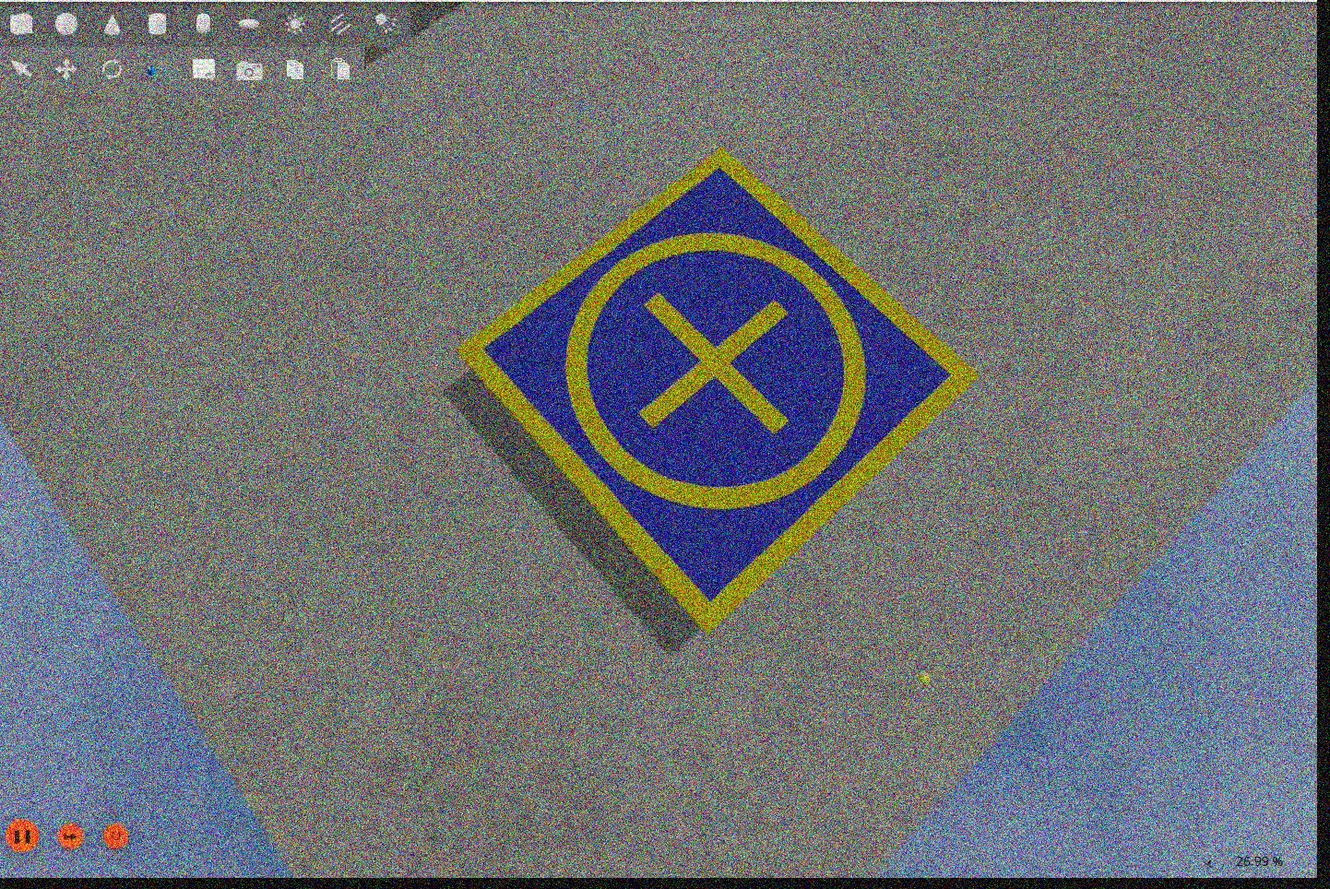small_base: (453, 150, 989, 634)
